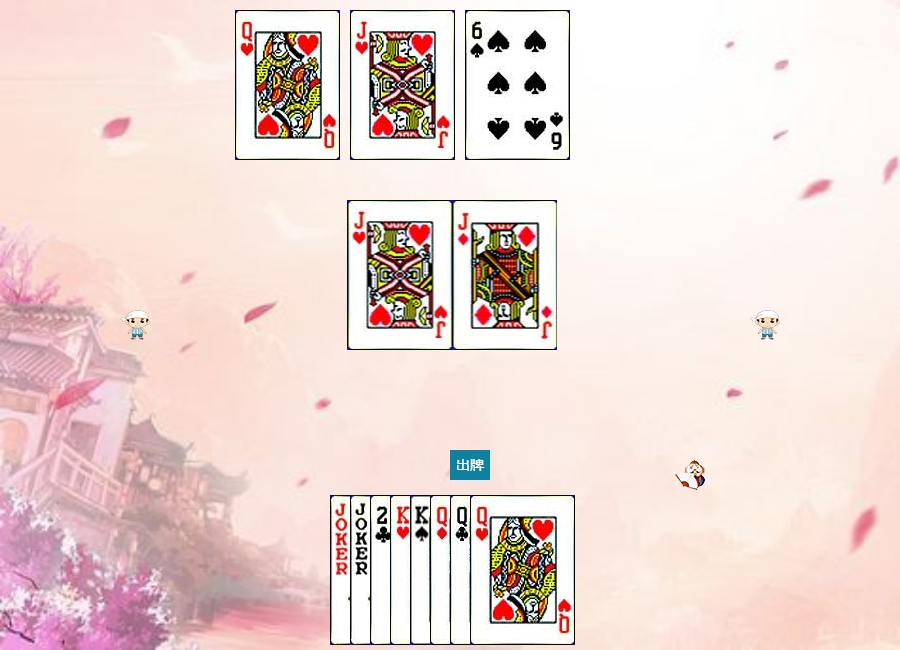11~1: (453, 200, 558, 350)
11~3: (350, 10, 455, 160), (348, 200, 453, 350)
12~1: (430, 495, 535, 645)
12~2: (450, 495, 555, 645)
12~3: (235, 10, 340, 160), (470, 495, 575, 645)
13~3: (390, 495, 495, 645)
13~4: (410, 495, 515, 645)
15~2: (370, 495, 475, 645)
17~3: (350, 495, 455, 645)
18~4: (330, 495, 435, 645)
6~4: (465, 10, 570, 160)
